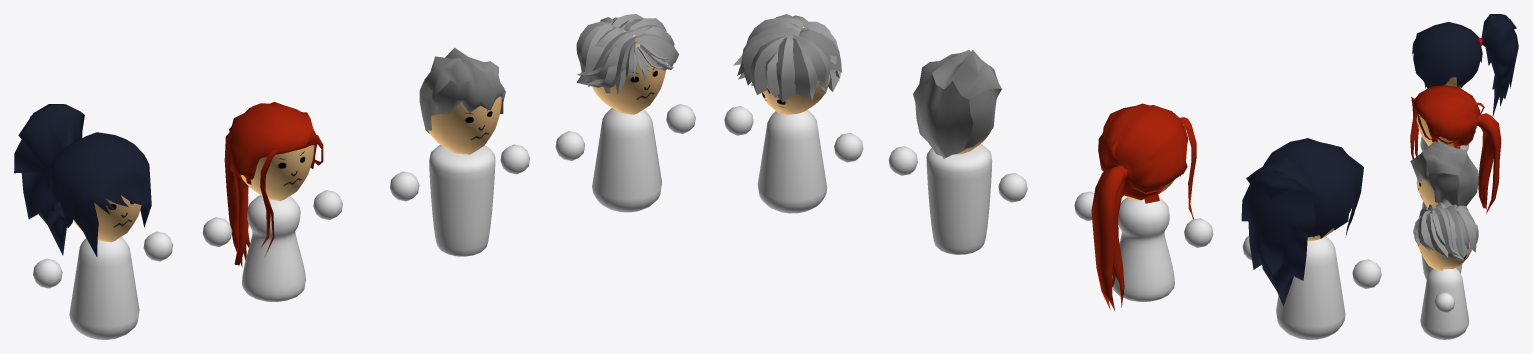
File: MiiTarget.FBX
The picture shows the model from 3 angles, left to right: view 1: azimuth 30°, elevation 25°; view 2: azimuth 150°, elevation 25°; view 3: azimuth 270°, elevation 25°; orthographic projection. The views are drawn at different scales.
Visible parts, largest first — view 1: Cube, Hair, Line002, Mii_M_2, Mii_F_2, Handle1, Line001, polySurface010, polySurface009, polySurface8, polySurface012, polySurface011 (+8 smaller); view 2: Cube, Hair, polySurface010, Handle1, Line002, Mii_M_2, Line001, Mii_F_2, polySurface012, GeoSphere005, GeoSphere007, GeoSphere003 (+3 smaller); view 3: Cube, Hair, polySurface010, Handle1, Mii_M_2, polySurface012, polySurface009, GeoSphere008, polySurface8, Line002, Mii_F_2, polySurface011.
Boxes of the visible parts, x1=… form: Cube: x1=14, y1=104, x2=151, y2=257; Hair: x1=224, y1=102, x2=323, y2=267; Line002: x1=429, y1=144, x2=495, y2=256; Mii_M_2: x1=592, y1=108, x2=661, y2=212; Mii_F_2: x1=69, y1=237, x2=139, y2=339; Handle1: x1=576, y1=14, x2=678, y2=94; Line001: x1=242, y1=195, x2=305, y2=301; polySurface010: x1=419, y1=47, x2=505, y2=133; polySurface009: x1=428, y1=96, x2=501, y2=154; polySurface8: x1=241, y1=145, x2=314, y2=201; polySurface012: x1=592, y1=30, x2=666, y2=114; polySurface011: x1=73, y1=195, x2=141, y2=242; Cube: x1=1241, y1=138, x2=1363, y2=306; Hair: x1=1091, y1=103, x2=1196, y2=310; polySurface010: x1=913, y1=50, x2=1001, y2=158; Handle1: x1=733, y1=14, x2=842, y2=102; Line002: x1=926, y1=144, x2=992, y2=254; Mii_M_2: x1=757, y1=110, x2=827, y2=213; Line001: x1=1112, y1=197, x2=1174, y2=301; Mii_F_2: x1=1276, y1=236, x2=1345, y2=339; polySurface012: x1=761, y1=24, x2=830, y2=114; GeoSphere005: x1=1352, y1=259, x2=1381, y2=288; GeoSphere007: x1=834, y1=133, x2=863, y2=162; GeoSphere003: x1=888, y1=146, x2=917, y2=175; Cube: x1=1412, y1=14, x2=1518, y2=116; Hair: x1=1410, y1=85, x2=1501, y2=214; polySurface010: x1=1410, y1=141, x2=1478, y2=206; Handle1: x1=1413, y1=199, x2=1478, y2=259; Mii_M_2: x1=1420, y1=268, x2=1469, y2=339; polySurface012: x1=1417, y1=211, x2=1471, y2=270; polySurface009: x1=1416, y1=179, x2=1437, y2=207; GeoSphere008: x1=1434, y1=292, x2=1455, y2=312; polySurface8: x1=1416, y1=114, x2=1461, y2=147; Line002: x1=1421, y1=208, x2=1462, y2=279; Mii_F_2: x1=1420, y1=136, x2=1469, y2=151; polySurface011: x1=1445, y1=77, x2=1465, y2=88.
Bounding box in the file's own units: 204 × 61.38 × 42.17.
6 materials, 1 textured.
